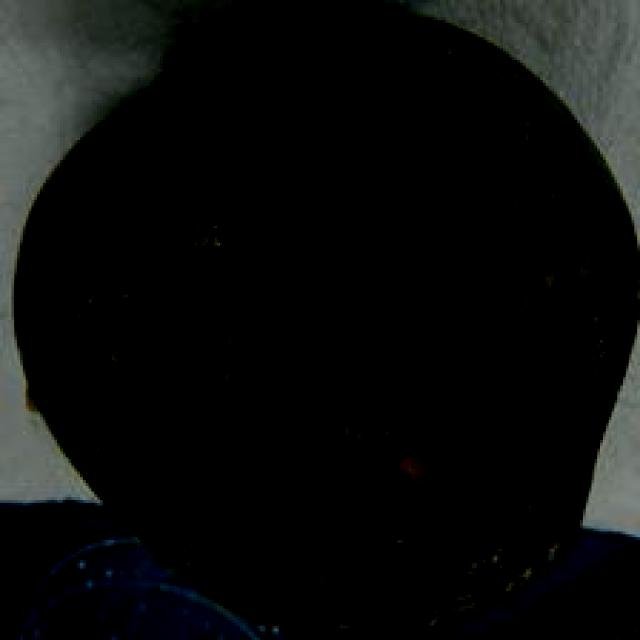Mango: (0, 11, 640, 626)
